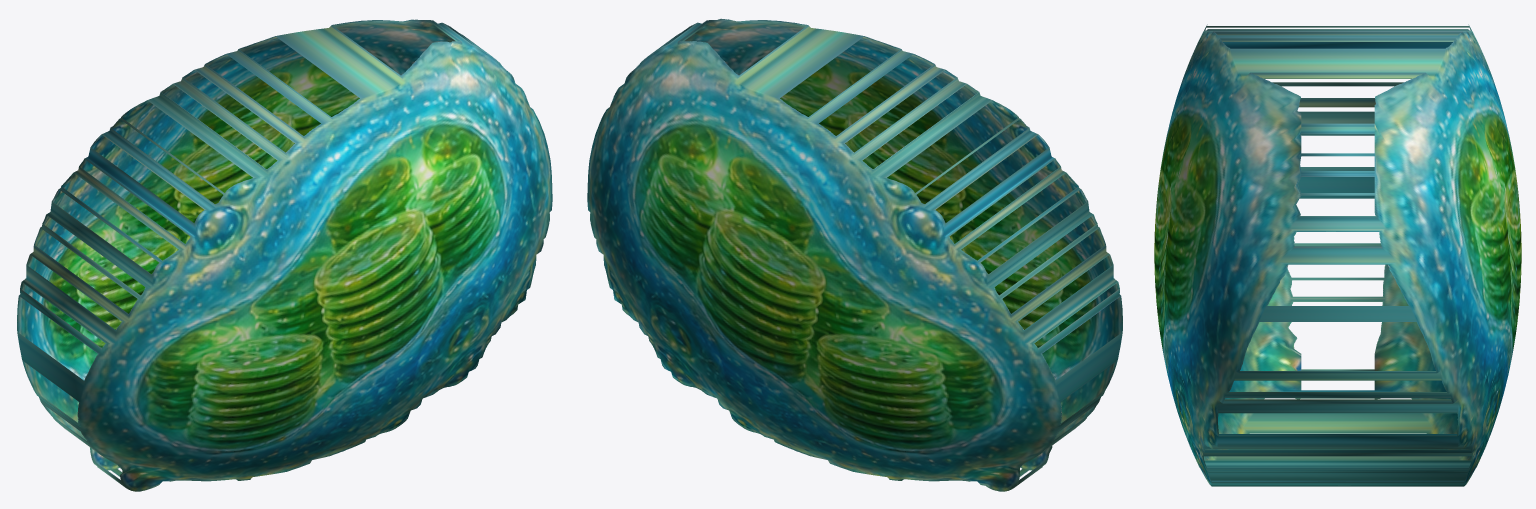
The picture shows the model from 3 angles, left to right: view 1: azimuth 30°, elevation 25°; view 2: azimuth 150°, elevation 25°; view 3: azimuth 270°, elevation 25°; orthographic projection. The views are drawn at different scales.
Parts seen in each view (by area): view 1: cells:5; view 2: cells:5; view 3: cells:5.
Boxes of the visible parts, x1,y1,x2,y2 form: cells:5: (17,19,552,491); cells:5: (587,18,1122,491); cells:5: (1154,24,1521,486).
Bounding box in the file's own units: 1.23 × 0.9459 × 0.6598.
Materials: 1 (1 with a texture image).
